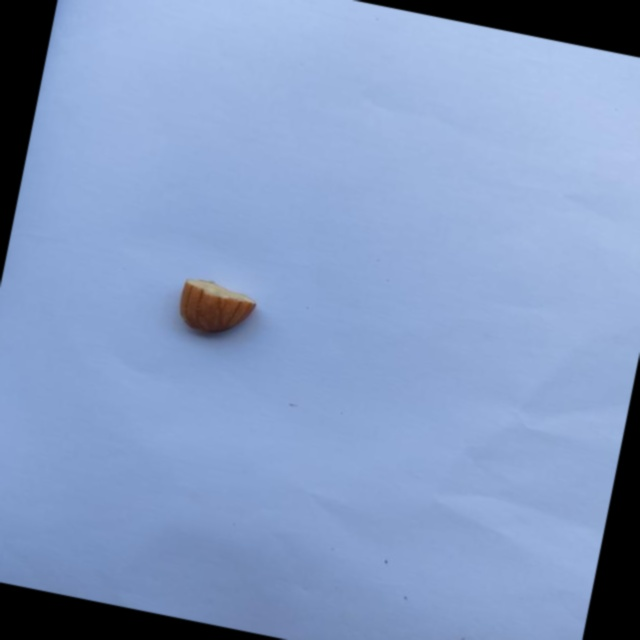grade4: (167, 271, 268, 350)
